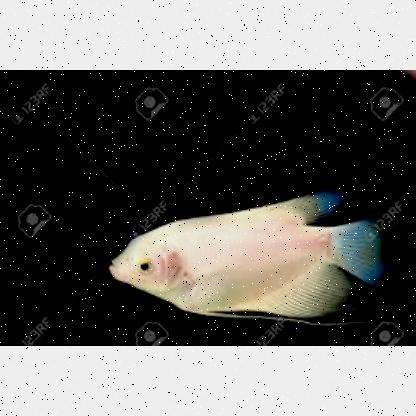gurame: (108, 202, 388, 322)
